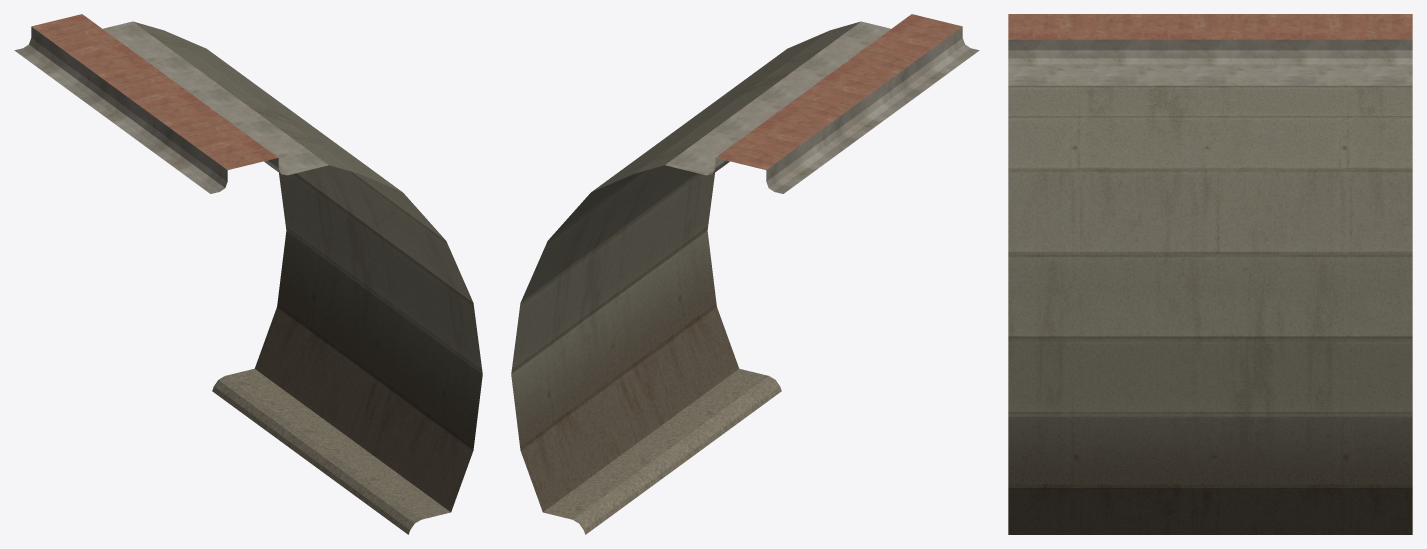
The model's file is 9x9_straight_piece.fbx.
3 renders of one model, left to right at view 1: azimuth 30°, elevation 25°; view 2: azimuth 150°, elevation 25°; view 3: azimuth 270°, elevation 25°, orthographic. The views are drawn at different scales.
Parts seen in each view (by area): view 1: 9x9_straight_piece_hallway; view 2: 9x9_straight_piece_hallway; view 3: 9x9_straight_piece_hallway.
Part boxes in pixels (x1,y1,x2,y2): 9x9_straight_piece_hallway: (14, 14, 482, 534); 9x9_straight_piece_hallway: (511, 14, 979, 534); 9x9_straight_piece_hallway: (1008, 14, 1412, 534).
Bounding box in the file's own units: 360 × 517 × 450.
